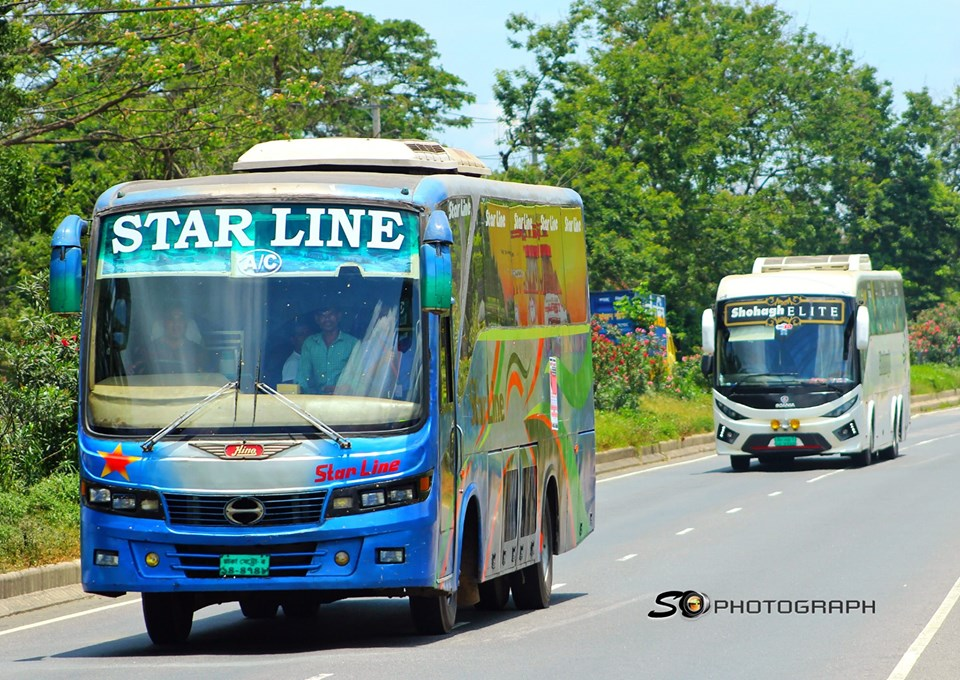bus: (49, 143, 605, 645), (693, 243, 914, 476)
